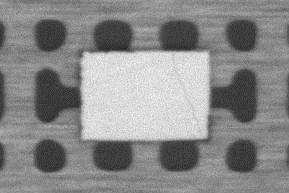DIE_CRACK: (172, 51, 202, 138)
